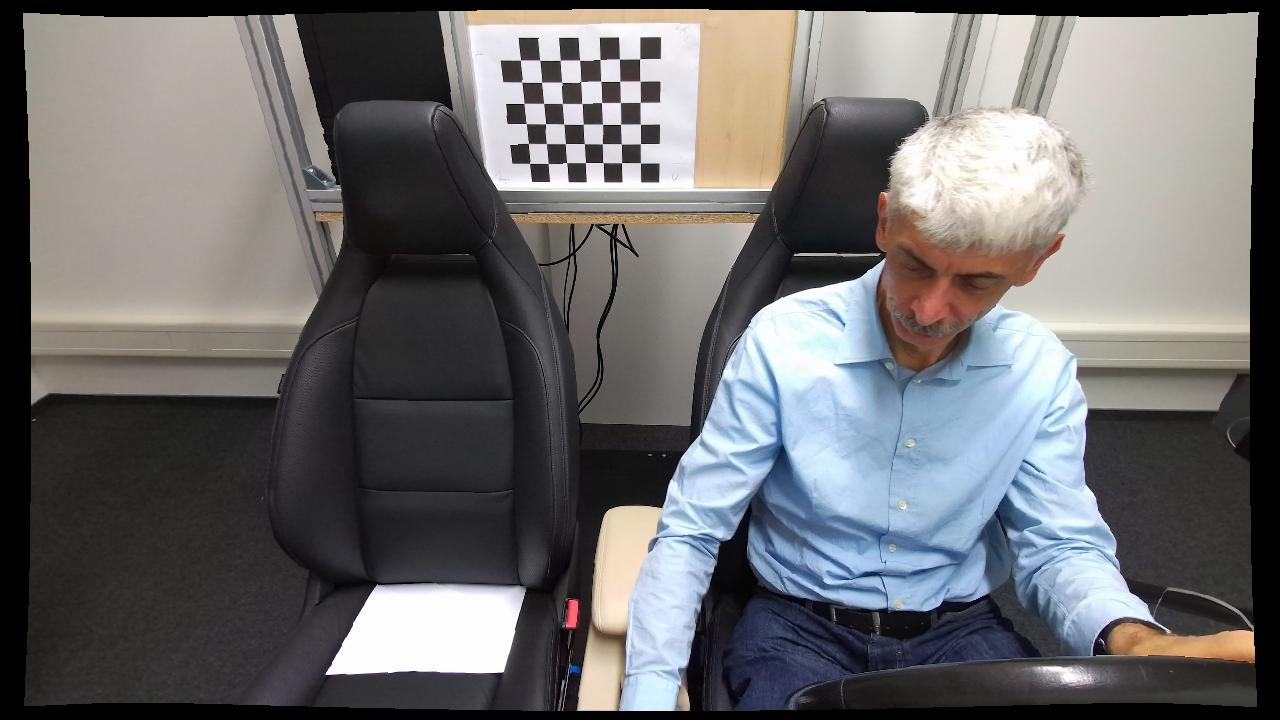Distracted: (608, 97, 1107, 710)
